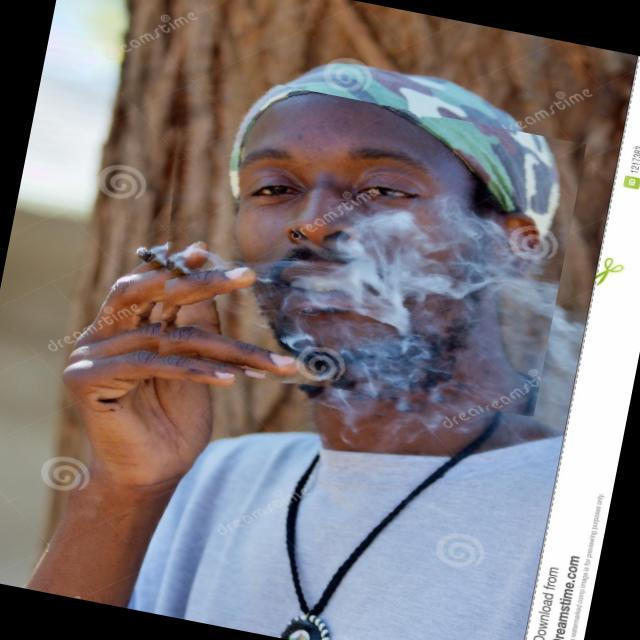cigarette: (96, 230, 214, 308)
